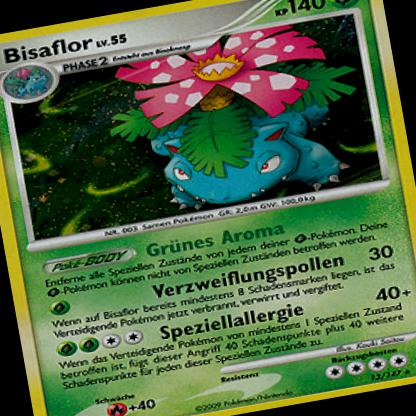Venusaur: (99, 29, 373, 222)
